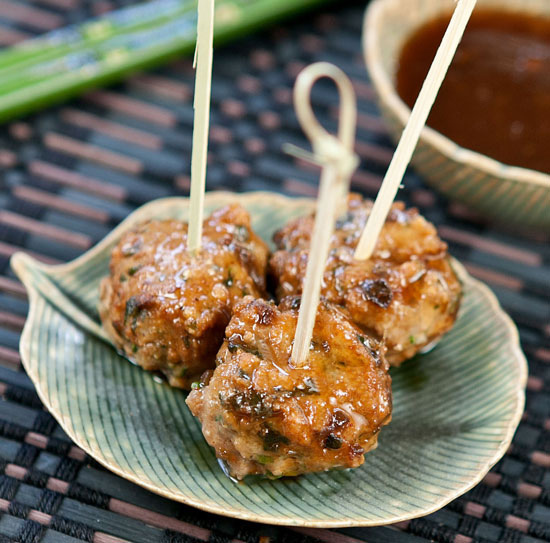meatballs: (119, 205, 453, 478)
